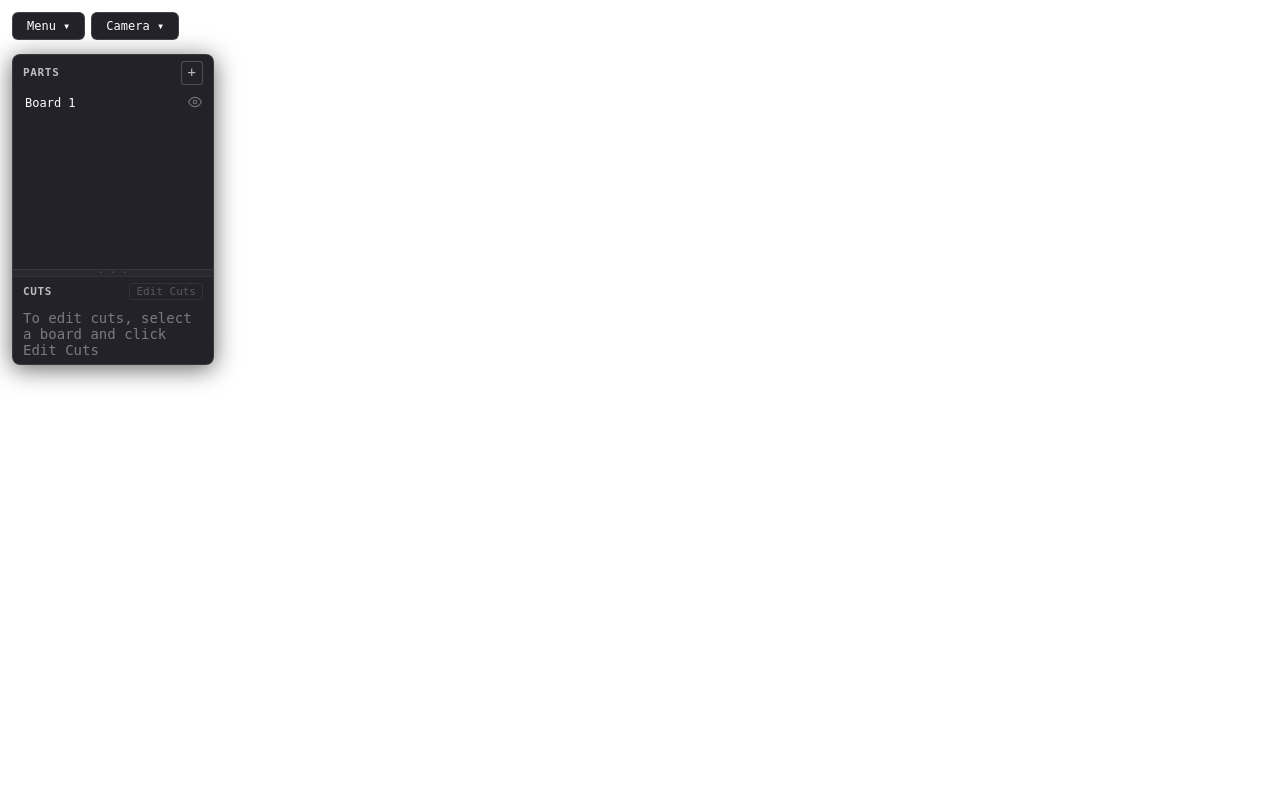
it: App - modify mode child selection › PartPanel shows child part name after selecting child in CutsList
# Select parent
Step 1. Click the list item "Board 1" → (50, 103), box top-left (25, 95), bottom-right (203, 111)
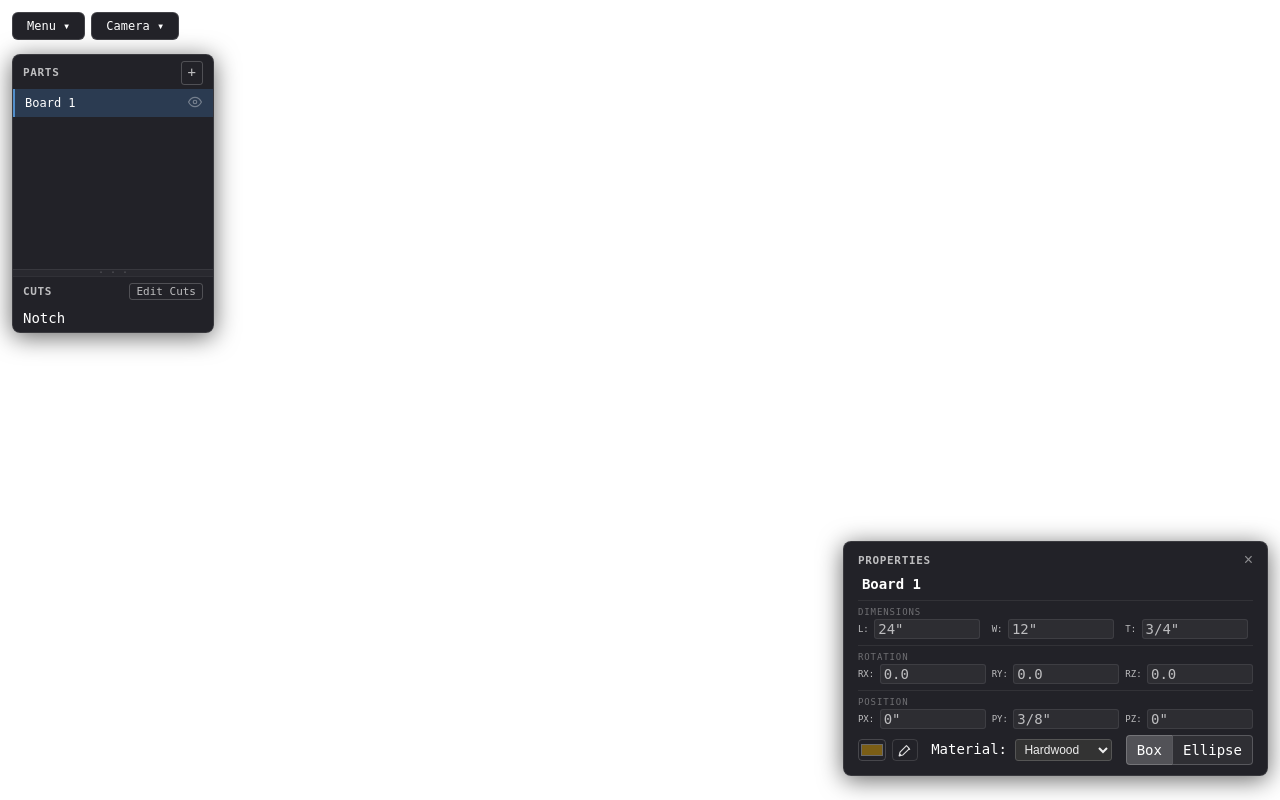
Step 2. Click the button "Edit Cuts" → (166, 291), box top-left (129, 283), bottom-right (203, 300)
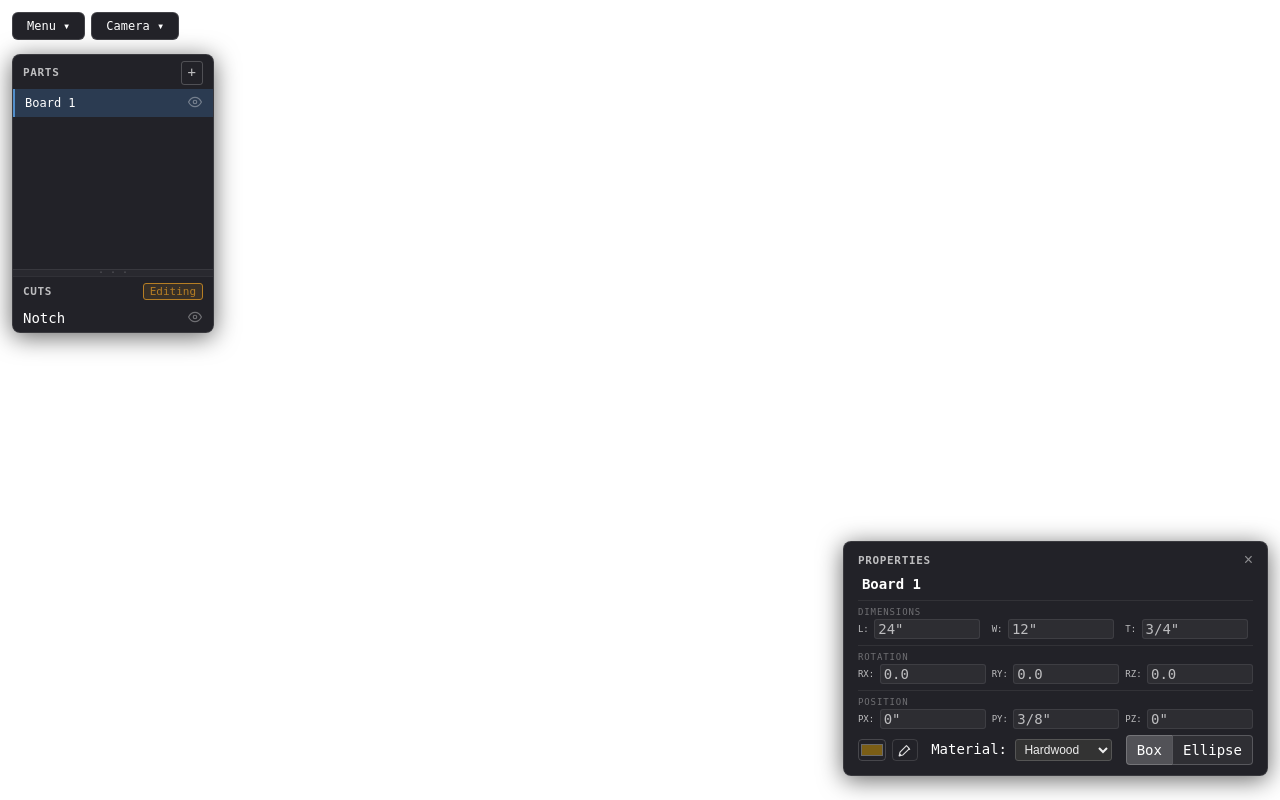
# Click child in CutsList
Step 3. Click the list item "Notch" → (44, 318), box top-left (23, 310), bottom-right (203, 326)
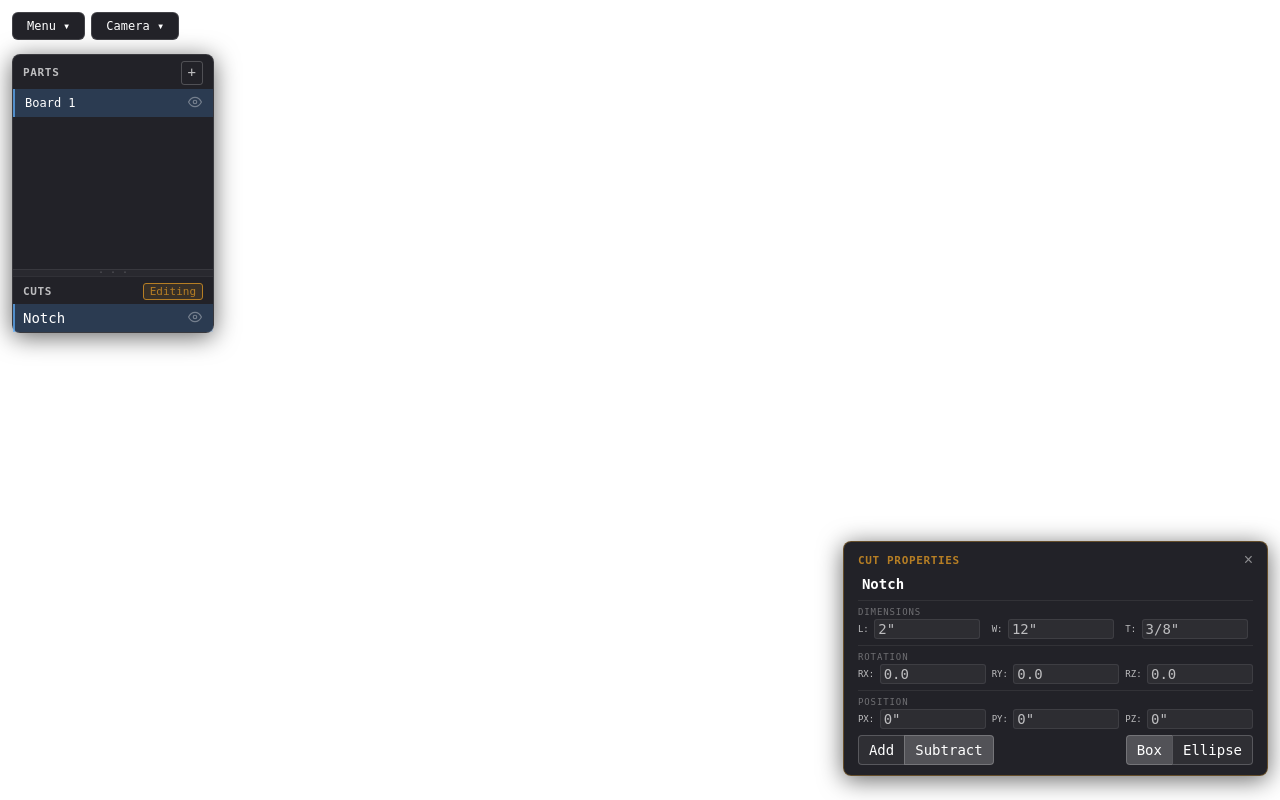
Check: the field named "Part name" holds "Notch", box top-left (858, 574), bottom-right (1253, 594)
